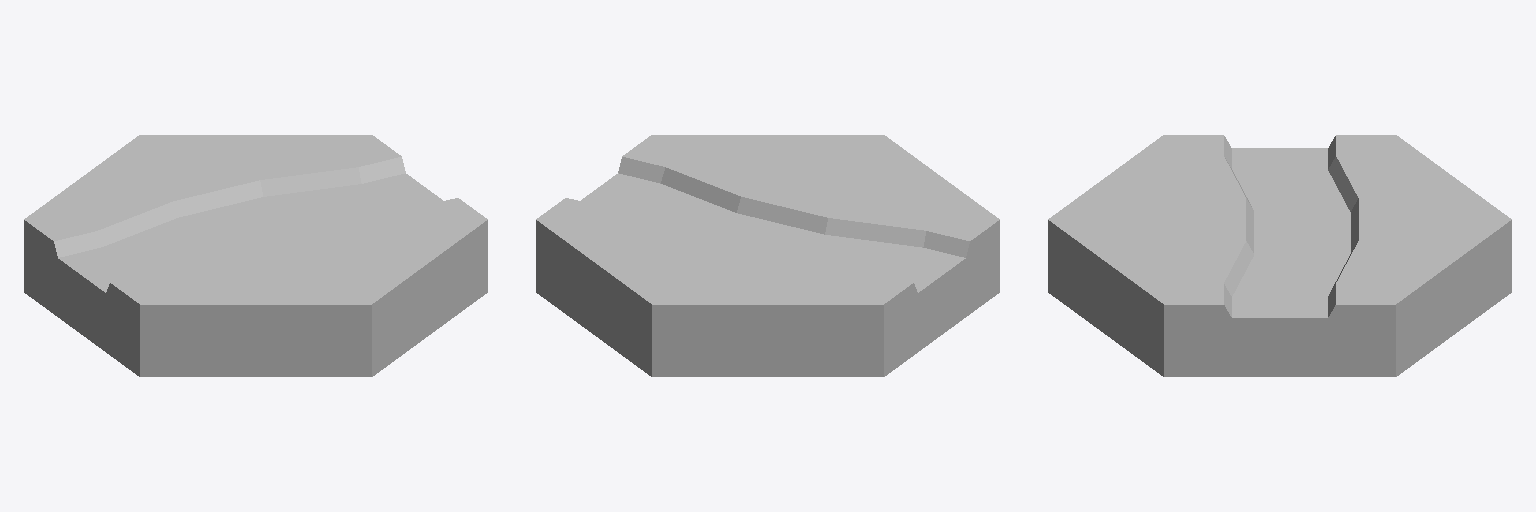
Rendered from river_straight.obj.
3 renders of one model, left to right at view 1: azimuth 30°, elevation 25°; view 2: azimuth 150°, elevation 25°; view 3: azimuth 270°, elevation 25°, orthographic.
Parts seen in each view (by area): view 1: river_straight; view 2: river_straight; view 3: river_straight.
Boxes of the visible parts, <box> form: river_straight: <box>24,135,487,376</box>; river_straight: <box>536,135,999,376</box>; river_straight: <box>1048,135,1511,376</box>.
Size of the model in its own units: 1 by 0.2 by 1.15.